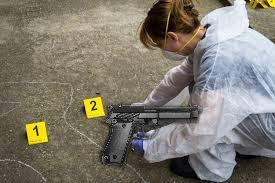gun.png: (98, 102, 205, 168)
